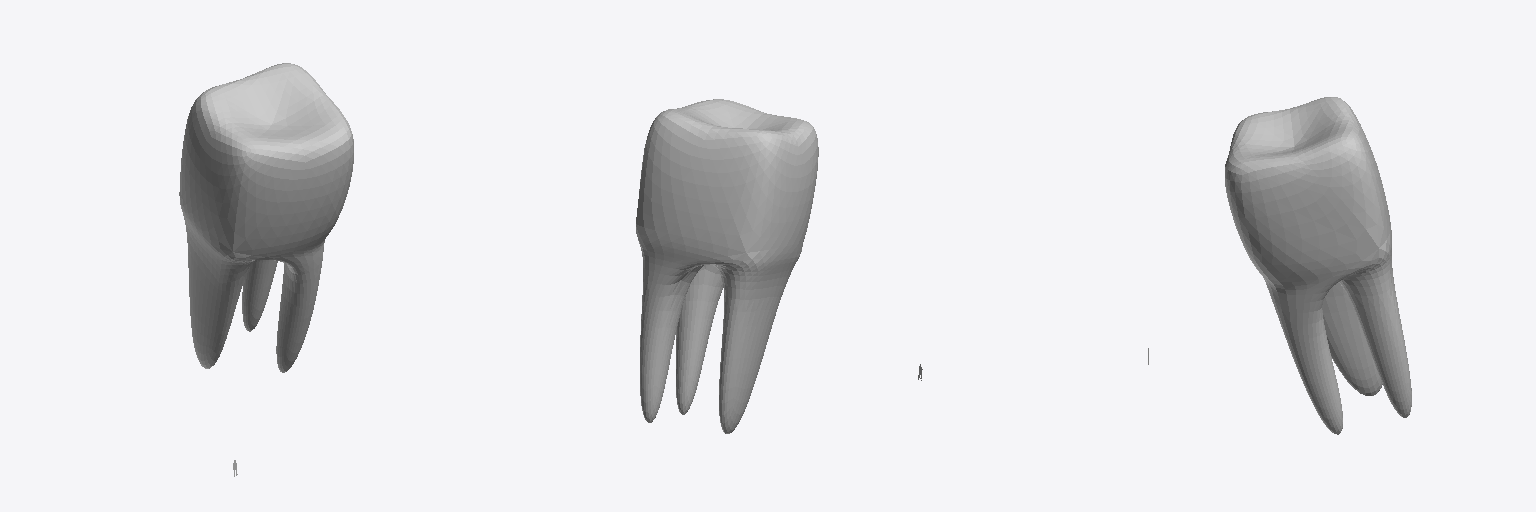
3 renders of one model, left to right at view 1: azimuth 30°, elevation 25°; view 2: azimuth 150°, elevation 25°; view 3: azimuth 270°, elevation 25°, orthographic.
Visible parts, largest first — view 1: Mesh1 Group1 Model; view 2: Mesh1 Group1 Model; view 3: Mesh1 Group1 Model.
Boxes of the visible parts, x1,y1,x2,y2 form: Mesh1 Group1 Model: [179, 63, 353, 372]; Mesh1 Group1 Model: [636, 99, 818, 433]; Mesh1 Group1 Model: [1225, 97, 1411, 434].
Size of the model in its own units: 20.11 by 32.71 by 25.85.